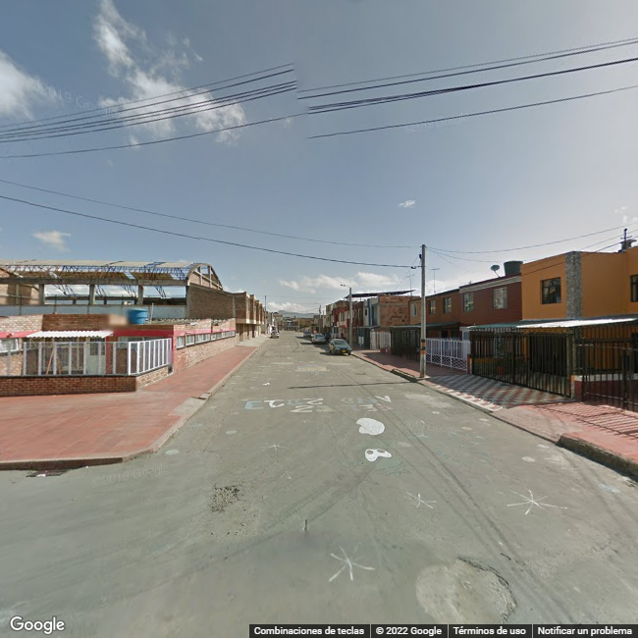D00: (355, 481, 394, 555)
D40: (412, 554, 533, 617), (202, 475, 251, 515)
